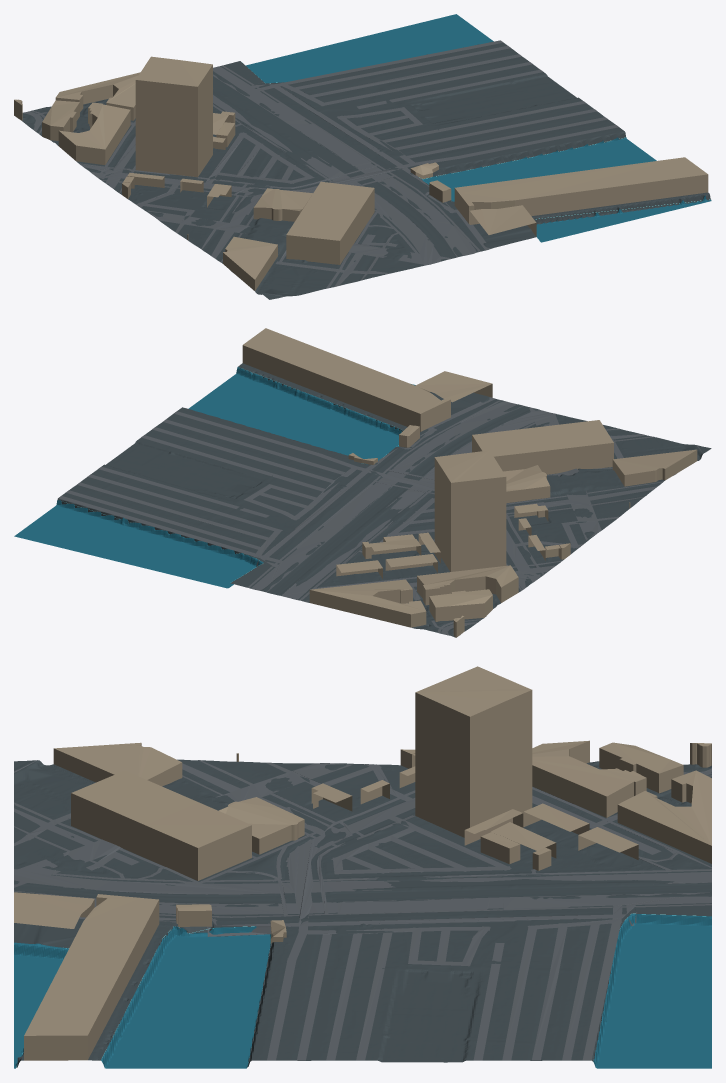
File: epsg26910-1442-10891.lod0.glb
3 renders of one model, top to bottom at view 1: azimuth 30°, elevation 25°; view 2: azimuth 150°, elevation 25°; view 3: azimuth 270°, elevation 25°, orthographic. The views are drawn at different scales.
Parts seen in each view (by area): view 1: epsg26910-1442-10891-lod0; view 2: epsg26910-1442-10891-lod0; view 3: epsg26910-1442-10891-lod0.
Part boxes in pixels (left/top/right/bottom): epsg26910-1442-10891-lod0: left=14, top=14, right=711, bottom=299; epsg26910-1442-10891-lod0: left=14, top=328, right=711, bottom=637; epsg26910-1442-10891-lod0: left=14, top=666, right=711, bottom=1068.
Size of the model in its own units: 384 by 79.81 by 384.
